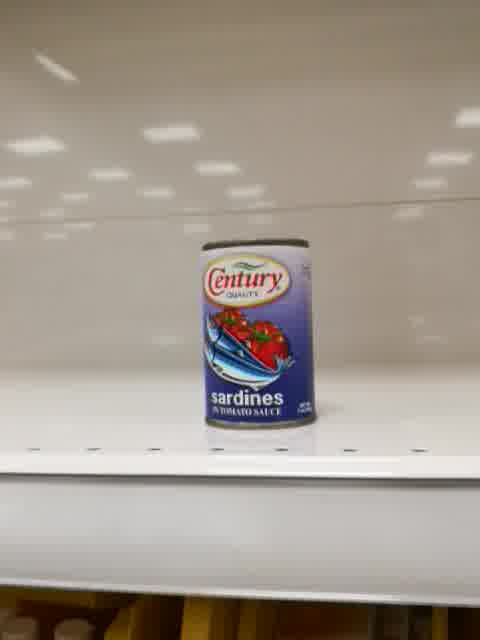sardine: (200, 238, 319, 434)
